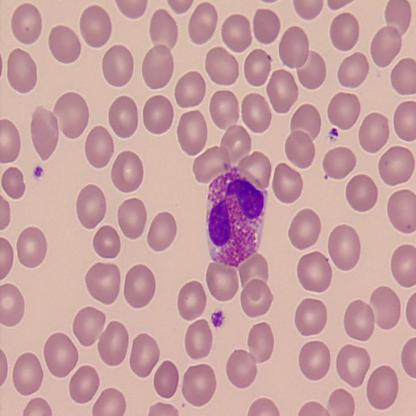Eosinophil: (207, 158, 267, 270)
